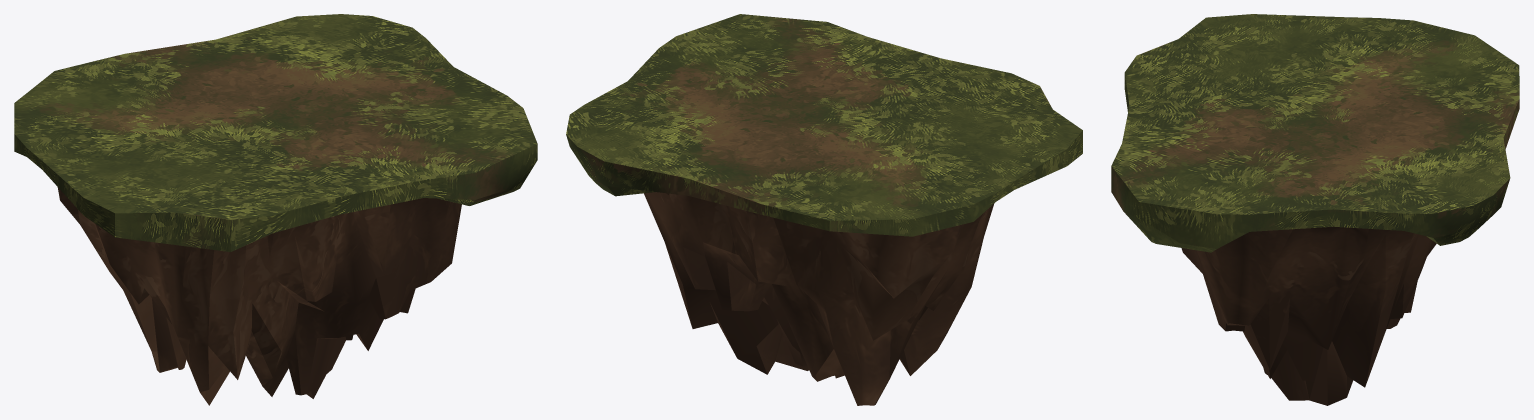
File: wyspa_srednia.obj
The picture shows the model from 3 angles, left to right: view 1: azimuth 30°, elevation 25°; view 2: azimuth 150°, elevation 25°; view 3: azimuth 270°, elevation 25°; orthographic projection. The views are drawn at different scales.
Parts seen in each view (by area): view 1: srednia; view 2: srednia; view 3: srednia.
Part boxes in pixels (box(x1,y1,x2,y2)): srednia: box(14, 14, 537, 405); srednia: box(566, 14, 1082, 405); srednia: box(1111, 14, 1519, 405).
Size of the model in its own units: 79.44 by 49.62 by 68.32.
2 materials, 2 textured.
